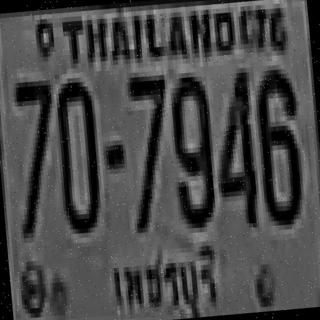N00: (50, 76, 102, 230)
N04: (208, 65, 259, 223)
N06: (250, 64, 303, 222)
N07: (122, 70, 176, 228), (10, 75, 60, 233)
N09: (166, 71, 216, 224)
P44: (101, 240, 224, 320)
